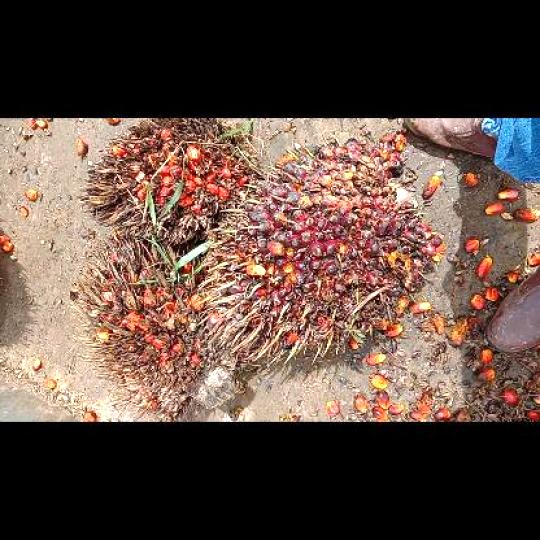masak: (199, 135, 442, 369)
terlalu masak: (68, 234, 246, 420), (77, 118, 258, 248)
